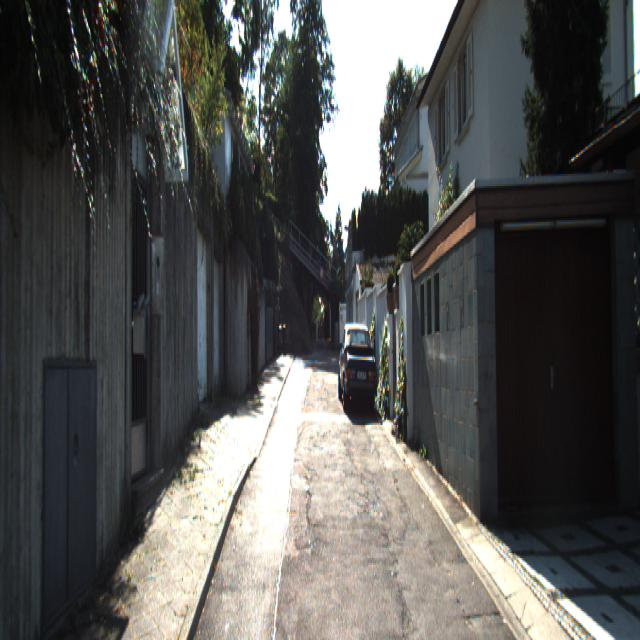Car: (338, 313, 378, 411)
